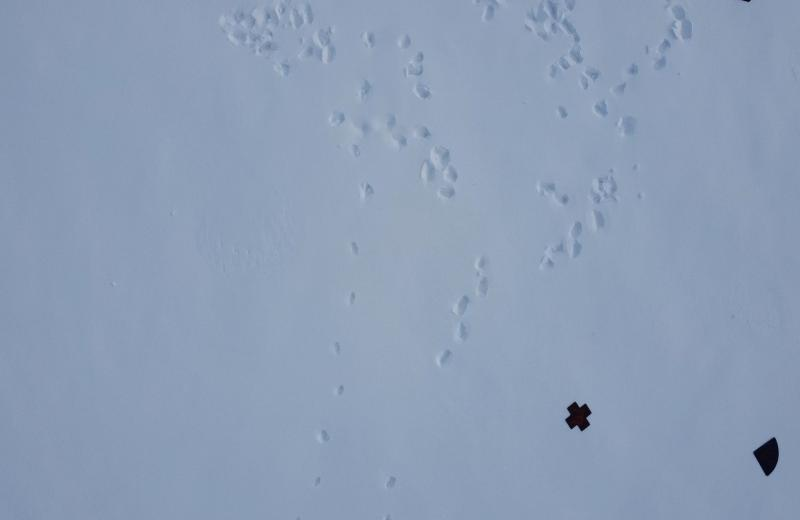Cross: (565, 395, 594, 432)
Quarter Circle: (749, 434, 780, 481)
